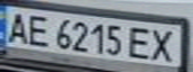1: (87, 20, 109, 55)
2: (69, 18, 90, 53)
5: (103, 21, 127, 57)
6: (51, 16, 75, 51)
A: (0, 9, 33, 44)
E: (124, 25, 157, 61), (24, 12, 54, 47)
X: (145, 26, 181, 64)
